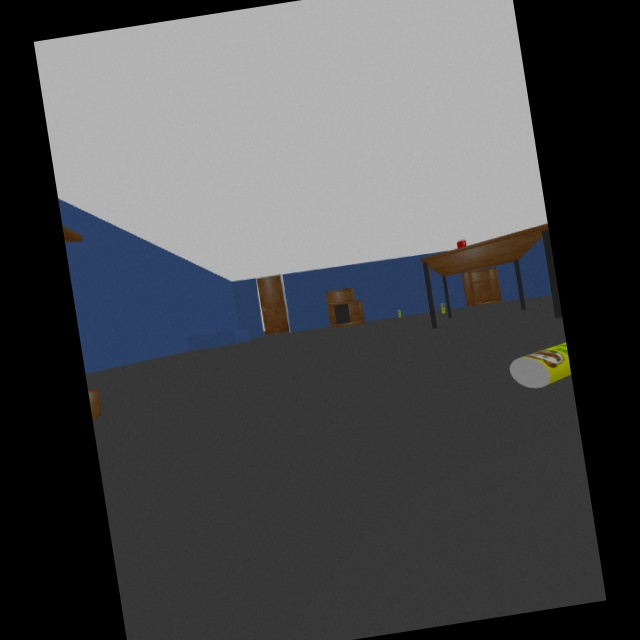chipsdose_gelb: (510, 342, 574, 388), (441, 302, 445, 313), (397, 309, 401, 316)
